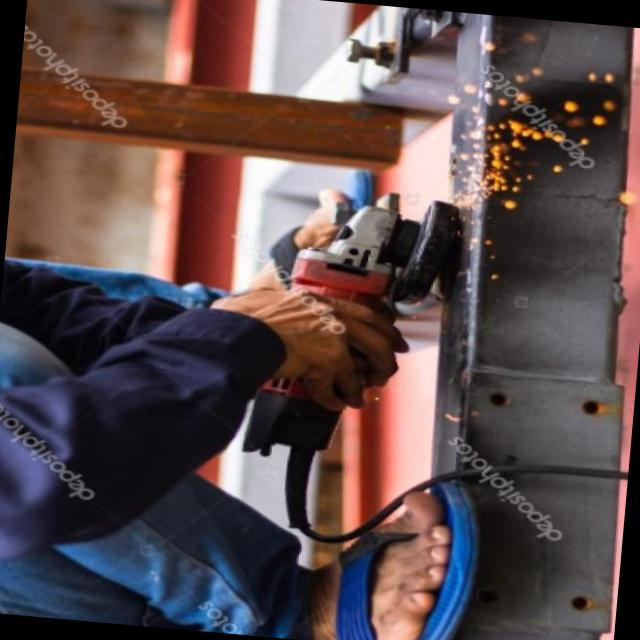not-gloved: (198, 278, 412, 417)
